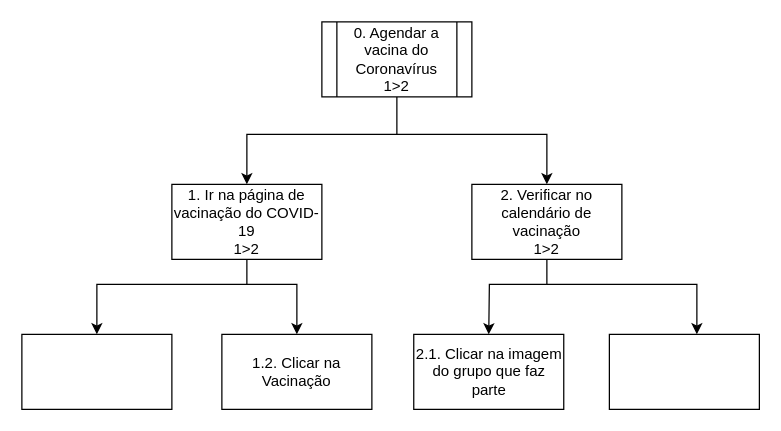
This 781x431 diagram has some shape labels left out. The centre of each missing label's shape, as x and y in pixels:
1.1. Descer a página home até "PASSO FUNDO CONTRA O CORONAVÍRUS": pixel 96 371
2.2. Dentro da imagem, ler os locais e horários para se vacinar: pixel 683 371
